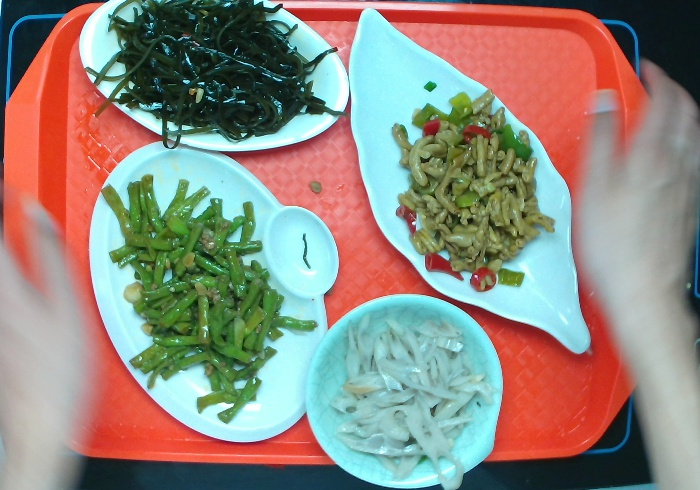RJxy-Bai_Se_Tuo_Yuan: (75, 2, 350, 156)
RJxy-Shu_Ye_Pan: (346, 1, 598, 360)
RJxy-Xiao_Jiao_Yuan_Wan: (305, 289, 507, 490)
RJxy-Zhan_Liao_Pan: (87, 136, 340, 449)
